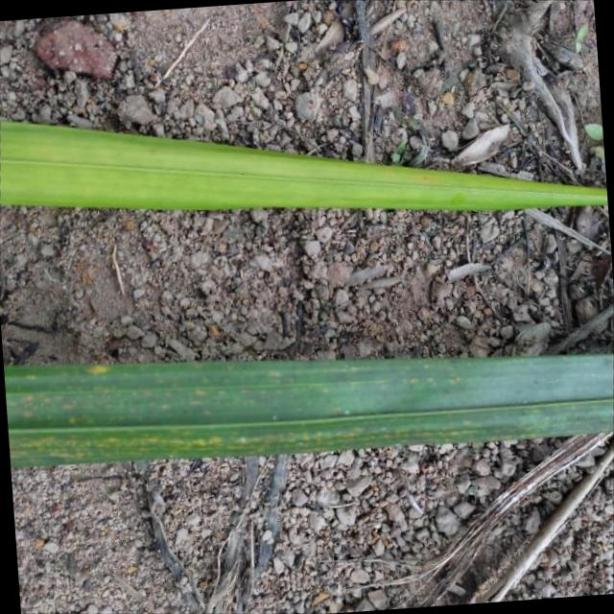nitrogen: (0, 350, 614, 469), (0, 112, 614, 213)
